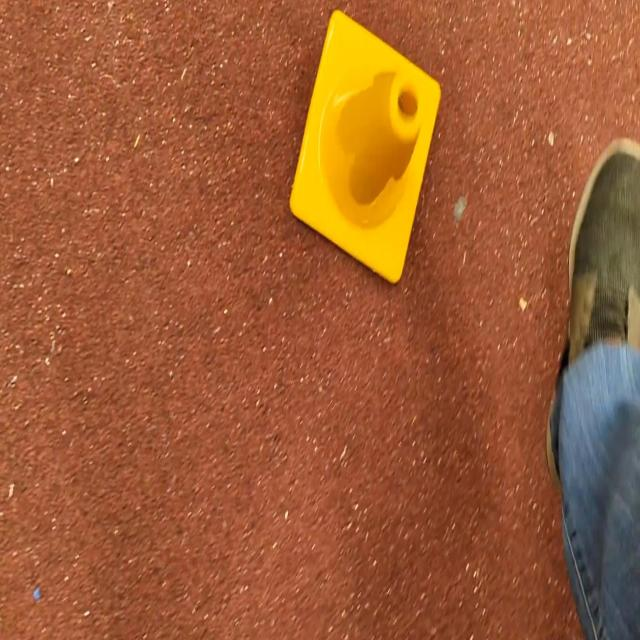frc_cone: (290, 13, 442, 293)
